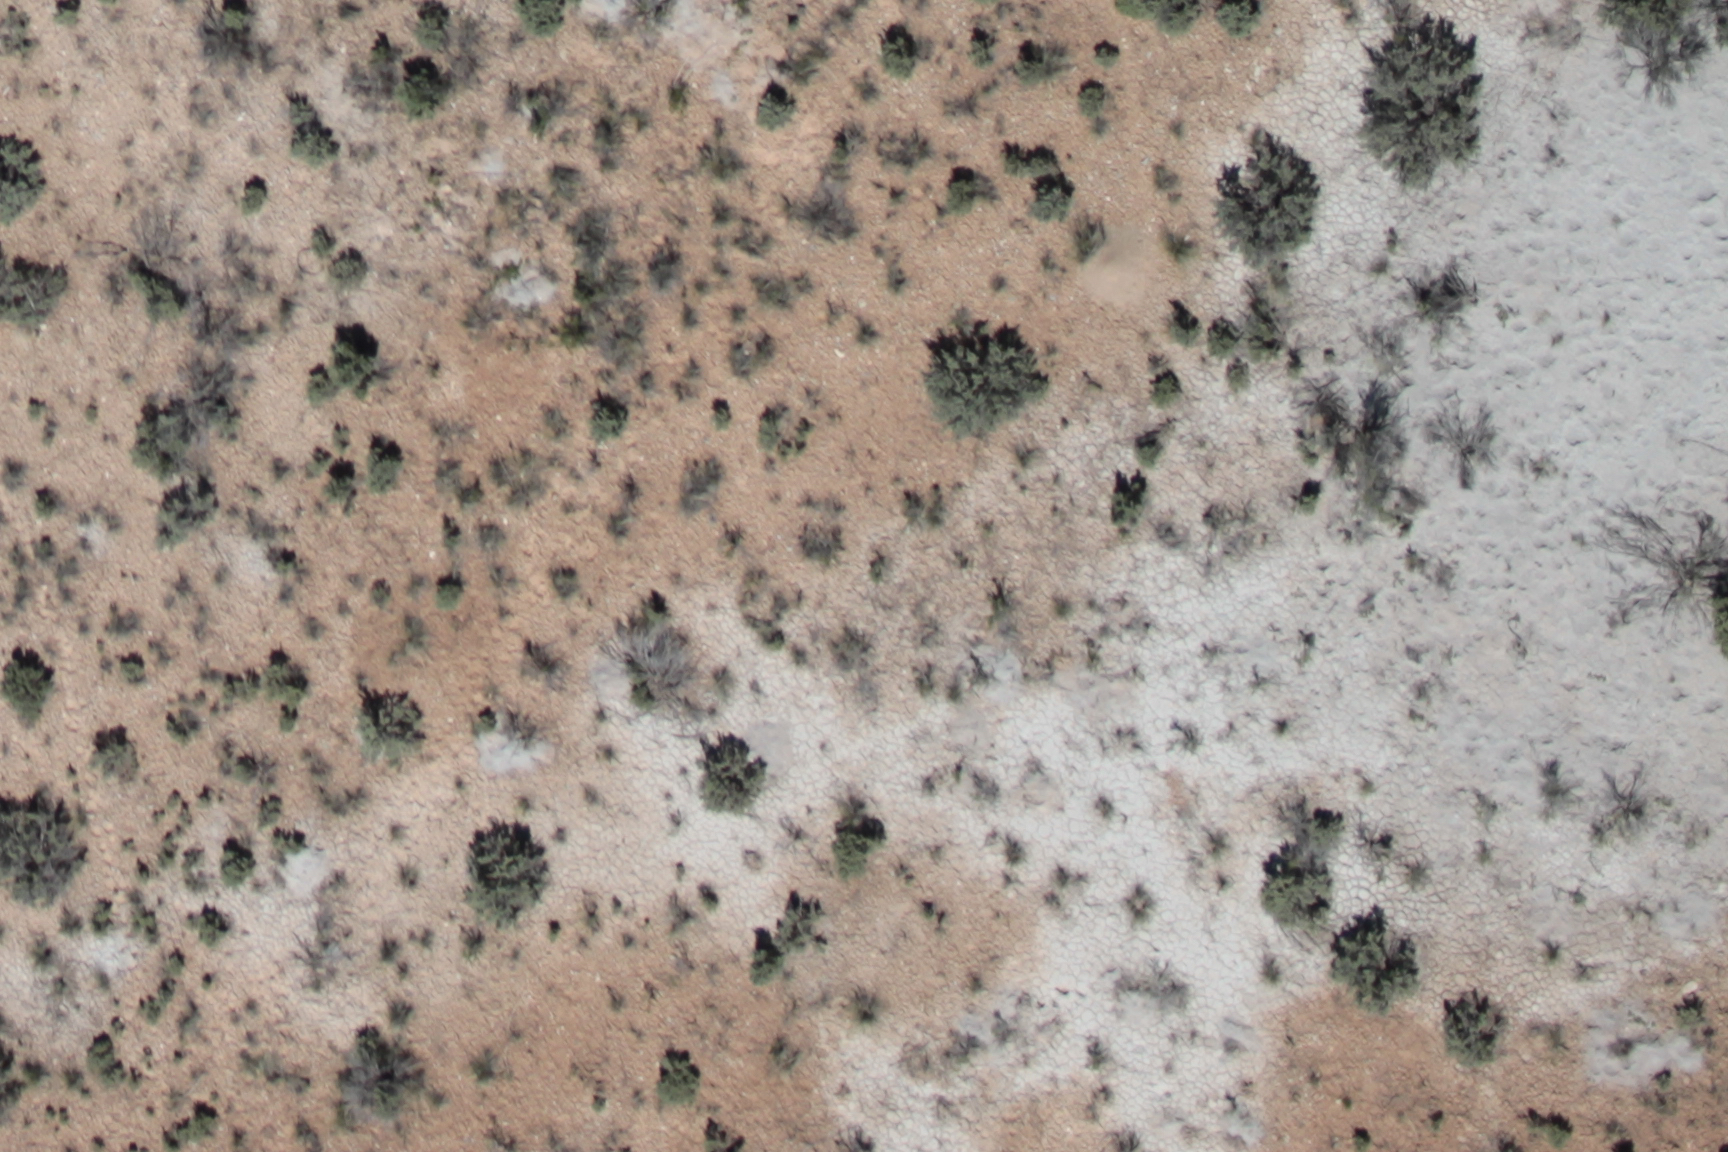burrow: (1079, 237, 1155, 312)
